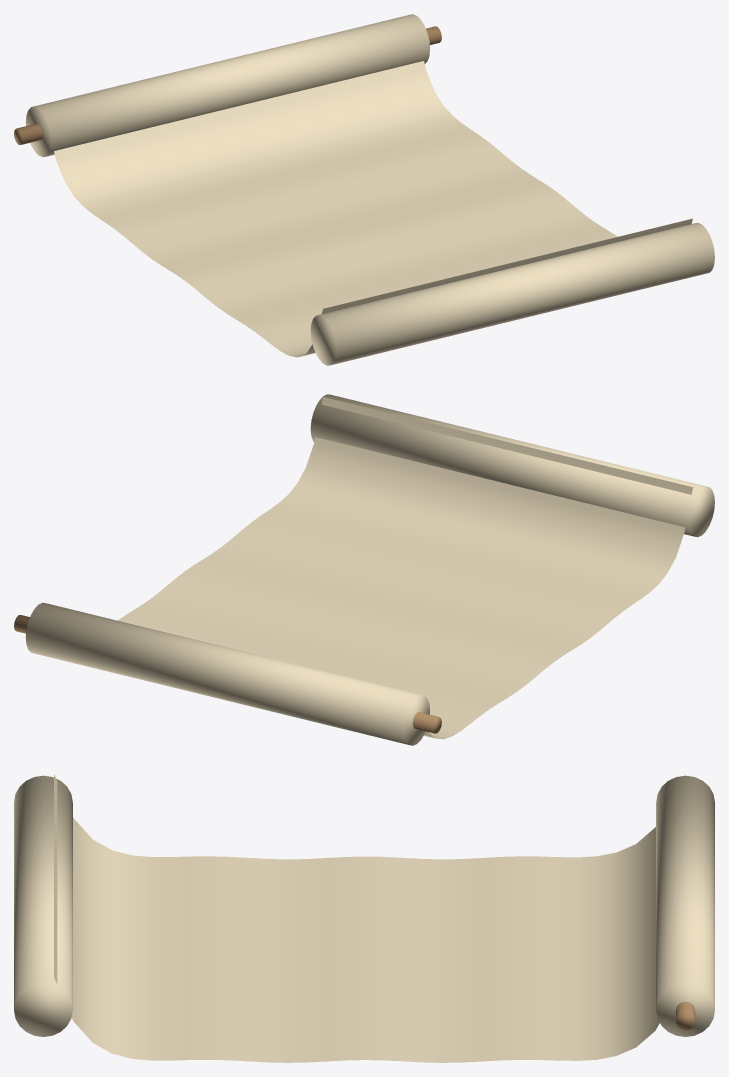
File: open-papyrus.glb
3 views of the same model, one above another, from view 1: azimuth 30°, elevation 25°; view 2: azimuth 150°, elevation 25°; view 3: azimuth 270°, elevation 25° (orthographic). The views are drawn at different scales.
Parts seen in each view (by area): view 1: open-papyrus__linen, open-papyrus__woodlight; view 2: open-papyrus__linen, open-papyrus__woodlight; view 3: open-papyrus__linen, open-papyrus__woodlight.
Boxes of the visible parts, x1,y1,x2,y2 form: open-papyrus__linen: [25, 14, 714, 365]; open-papyrus__woodlight: [14, 26, 441, 144]; open-papyrus__linen: [25, 394, 714, 745]; open-papyrus__woodlight: [14, 615, 441, 733]; open-papyrus__linen: [14, 774, 714, 1062]; open-papyrus__woodlight: [676, 1001, 695, 1030].
Bounding box in the file's own units: 1.02 × 0.176 × 1.31.
